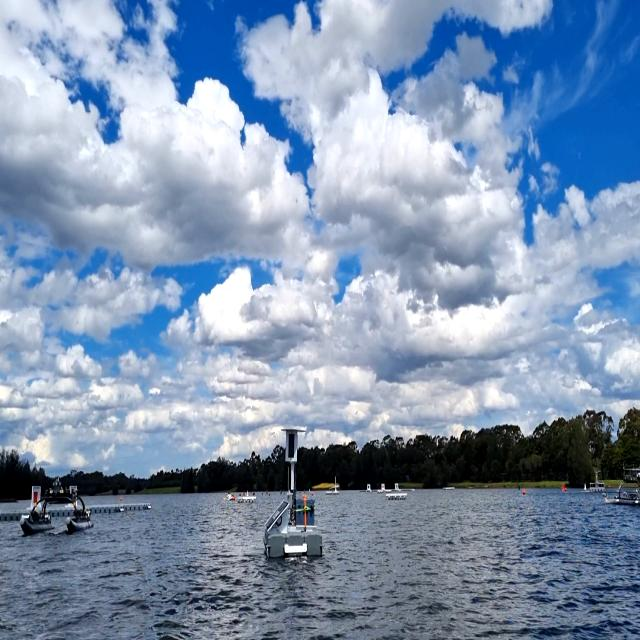led: (287, 431, 296, 460)
